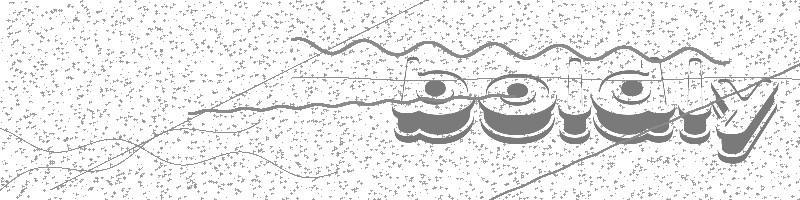b: (390, 56, 476, 147)
d: (591, 56, 674, 144)
l: (556, 56, 593, 146), (678, 57, 712, 146)
o: (477, 73, 557, 144)
y: (709, 72, 778, 165)
